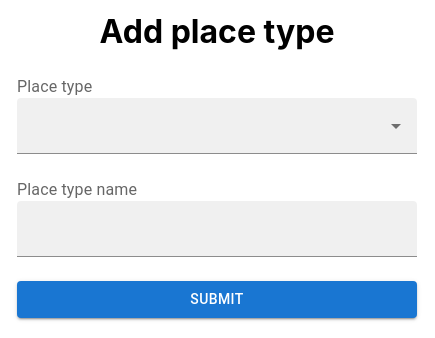
Test: AddPlaceType test › place name › show validate icon if place name doesn't exist in the database
Type "new place name" into the dropdown labelled "Place type name" at (202, 238), box [25,220,378,257]
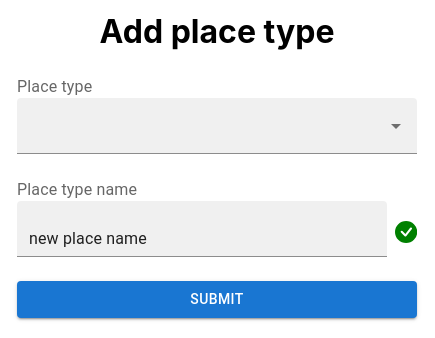
Now the icon with test id "add-place-icon-validate" is shown, box [395,220,417,244]
